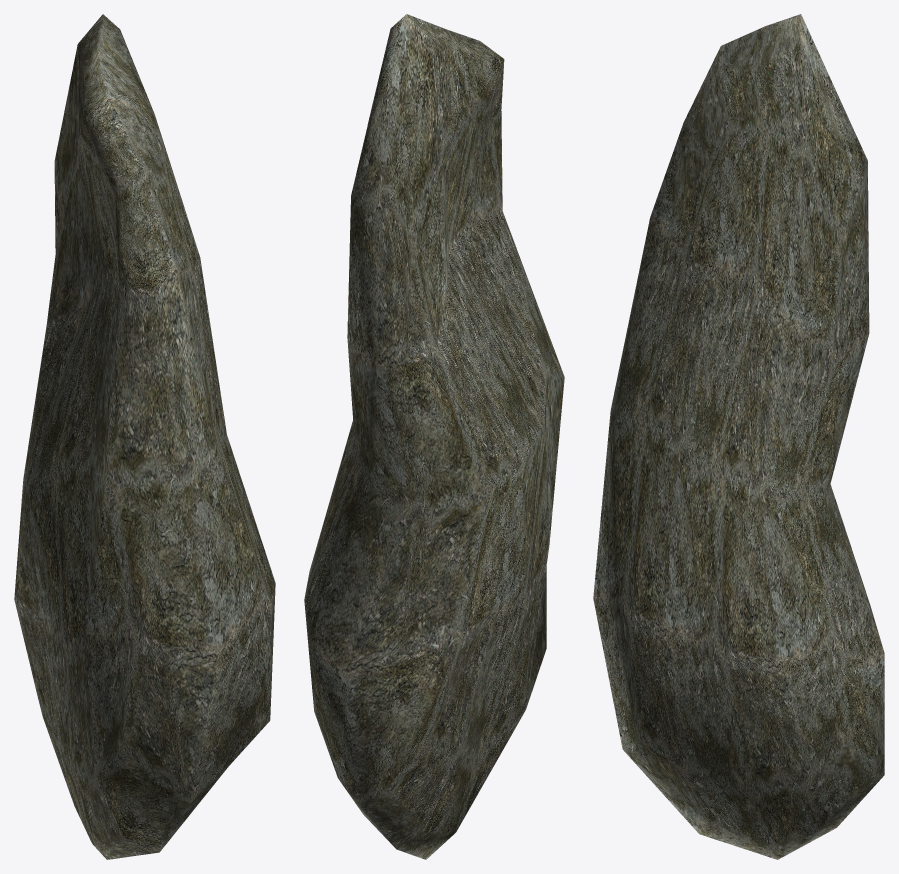
File: rock_dant_a3_l0.fbx
The picture shows the model from 3 angles, left to right: view 1: azimuth 30°, elevation 25°; view 2: azimuth 150°, elevation 25°; view 3: azimuth 270°, elevation 25°; orthographic projection. The views are drawn at different scales.
Visible parts, largest first — view 1: mesh_node; view 2: mesh_node; view 3: mesh_node.
Boxes of the visible parts, x1,y1,x2,y2 form: mesh_node: (14, 14, 275, 859); mesh_node: (304, 14, 564, 859); mesh_node: (593, 14, 884, 859).
Bounding box in the file's own units: 1.35 × 5.29 × 1.65.
Materials: 1 (1 with a texture image).
